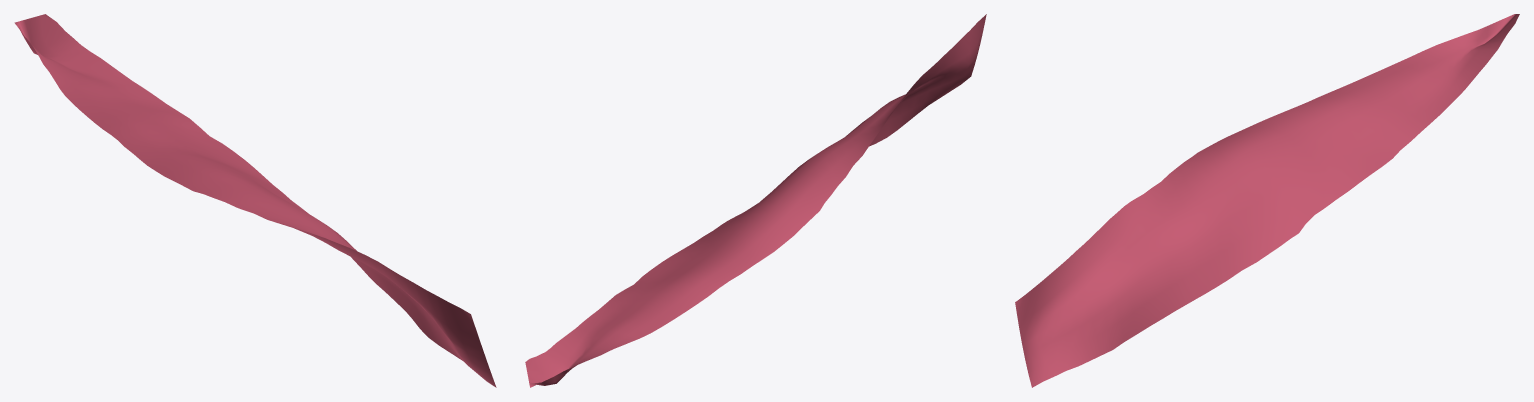
3 renders of one model, left to right at view 1: azimuth 30°, elevation 25°; view 2: azimuth 150°, elevation 25°; view 3: azimuth 330°, elevation 25°, orthographic. The views are drawn at different scales.
Visible parts, largest first — view 1: 右侧股外侧肌间隔; view 2: 右侧股外侧肌间隔; view 3: 右侧股外侧肌间隔.
Boxes of the visible parts, x1,y1,x2,y2 form: 右侧股外侧肌间隔: (14, 14, 496, 387); 右侧股外侧肌间隔: (525, 14, 986, 387); 右侧股外侧肌间隔: (1015, 14, 1519, 387).
Size of the model in its own units: 0.0529 by 0.0391 by 0.3939.
